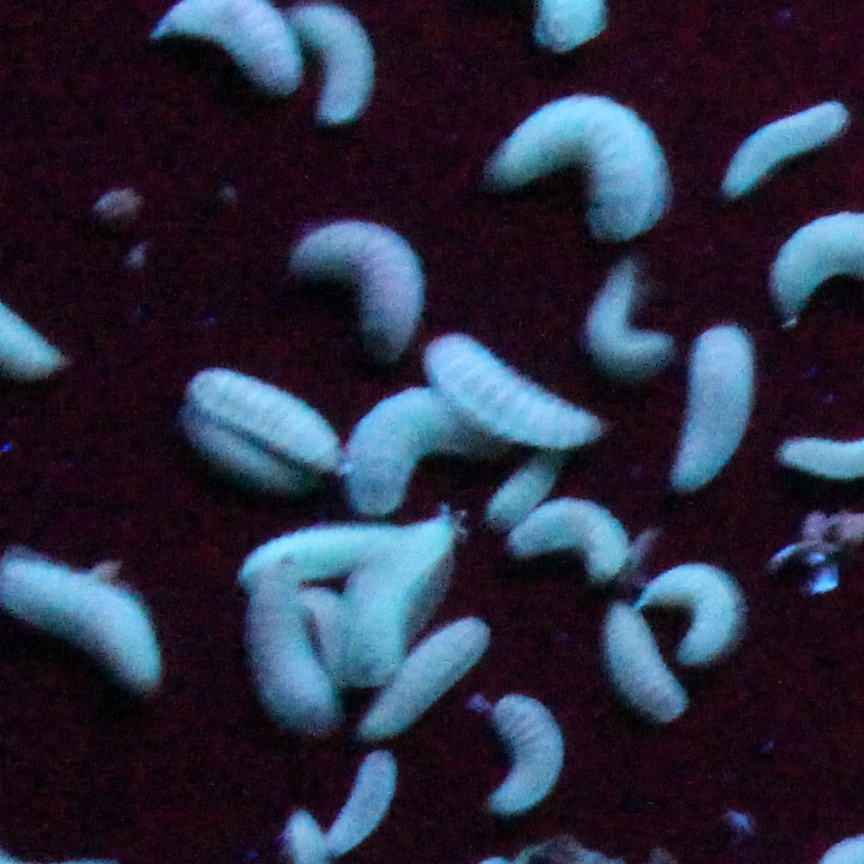larve: (494, 94, 666, 243), (292, 210, 413, 350), (434, 334, 583, 436), (353, 620, 487, 729), (353, 520, 452, 666), (346, 396, 474, 506), (202, 374, 334, 448), (690, 332, 752, 488), (650, 567, 746, 667), (729, 97, 838, 180), (185, 415, 292, 496), (518, 503, 631, 571), (262, 588, 318, 725), (492, 694, 555, 815), (304, 11, 373, 120), (602, 618, 676, 717), (597, 262, 664, 360), (331, 757, 395, 852), (243, 527, 373, 573), (483, 460, 566, 520), (311, 587, 348, 683)
